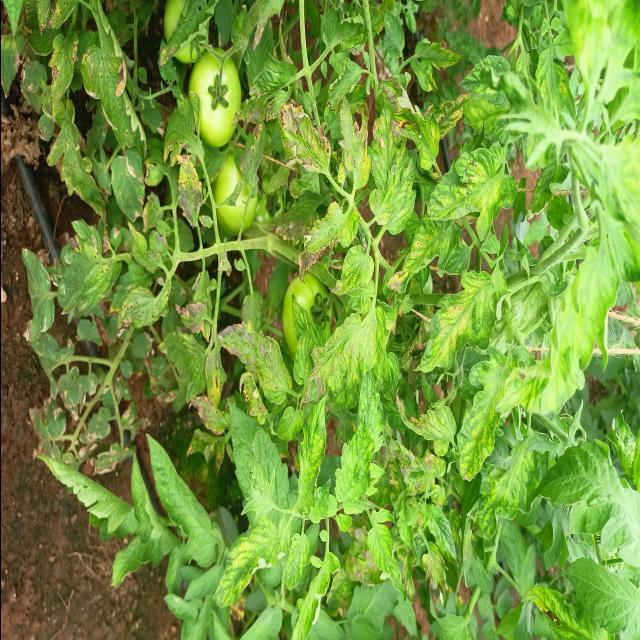Tomato mosaic virus leaf: (78, 38, 146, 150), (112, 276, 172, 342), (45, 32, 77, 124), (32, 0, 76, 38)
